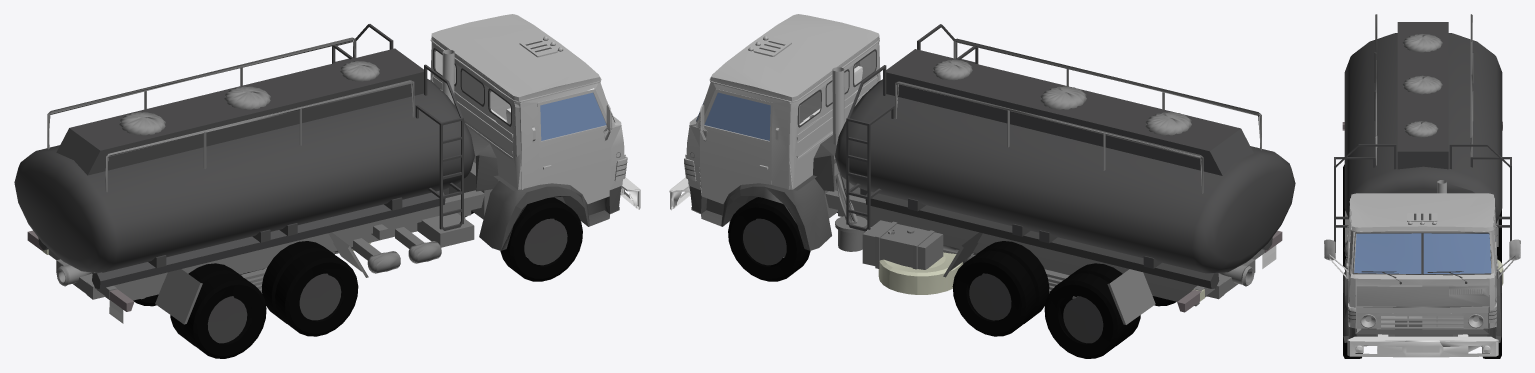
File: WATERCAR.glb
3 views of the same model, side by side, from view 1: azimuth 30°, elevation 25°; view 2: azimuth 150°, elevation 25°; view 3: azimuth 270°, elevation 25° (orthographic). The views are drawn at different scales.
Parts seen in each view (by area): view 1: 立方体, body; view 2: 立方体, body; view 3: 立方体, body.
Boxes of the visible parts, <box> form: 立方体: <box>14,24,640,358</box>; body: <box>430,14,627,203</box>; 立方体: <box>669,24,1295,358</box>; body: <box>684,14,880,203</box>; 立方体: <box>1334,14,1511,358</box>; body: <box>1324,180,1520,333</box>.
Size of the model in its own units: 9.25 by 3.51 by 3.56.
